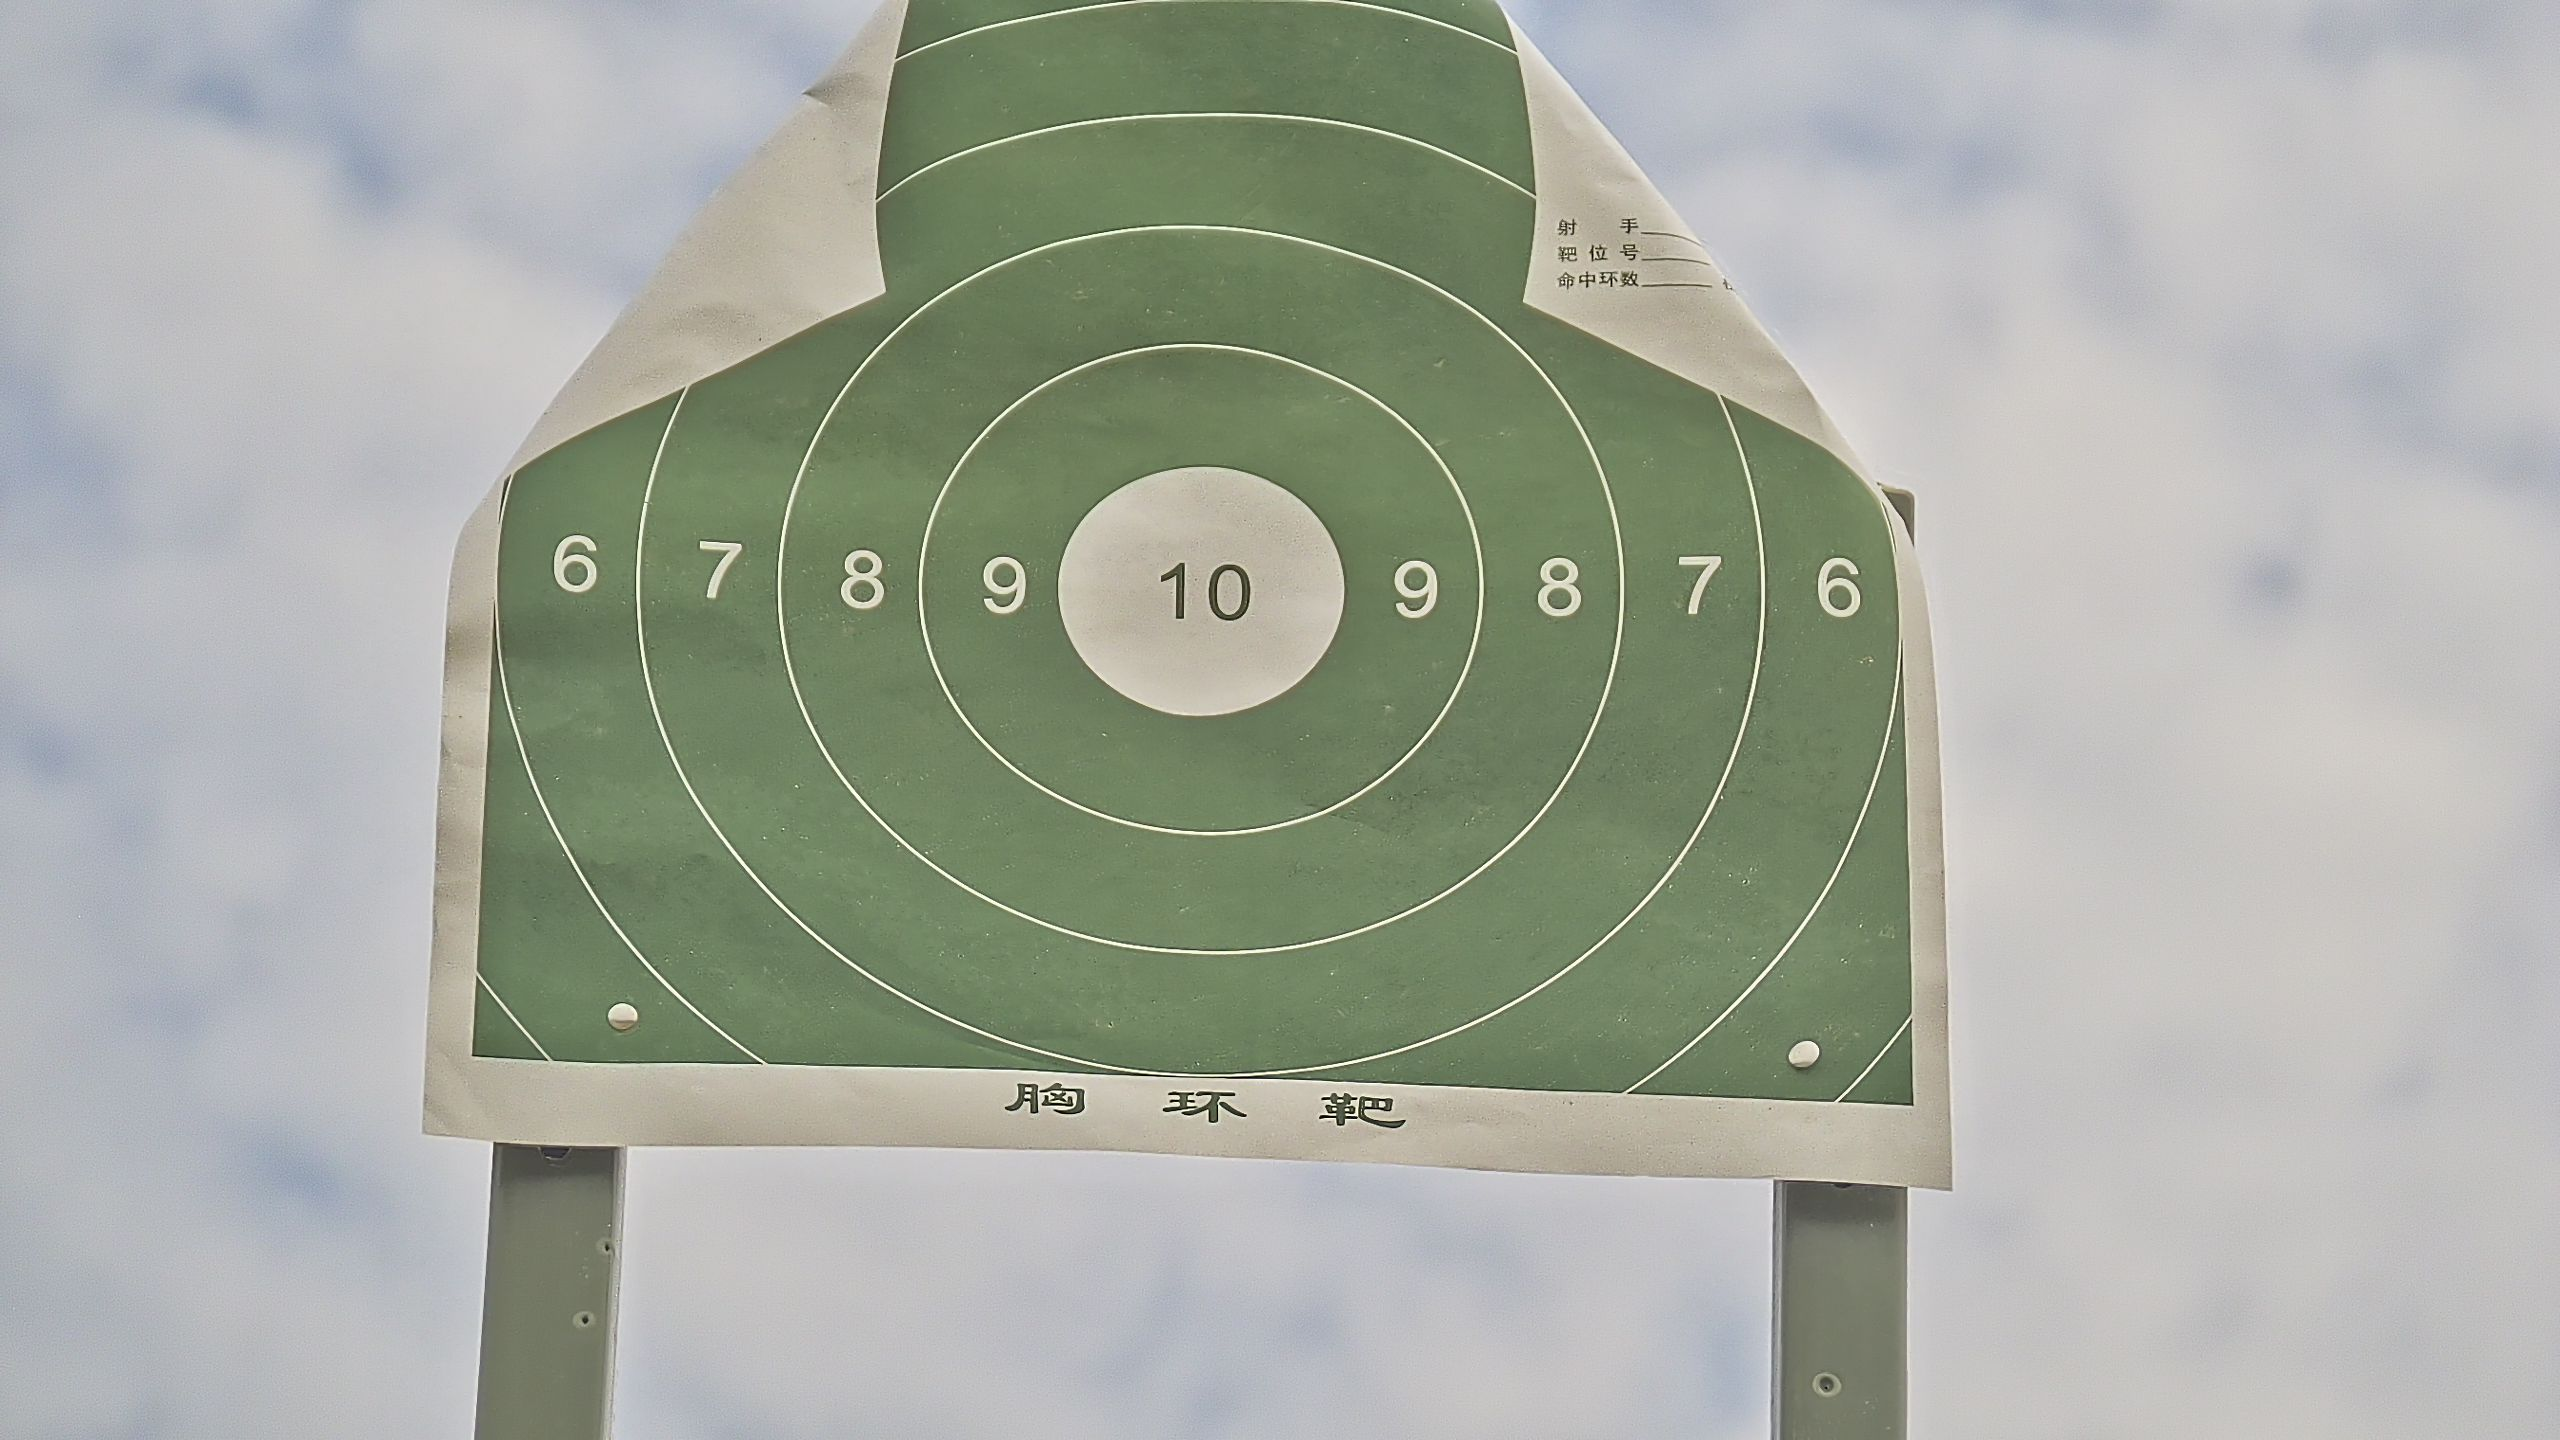kernel: (1196, 591, 1199, 593)
target: (471, 5, 1909, 1104)
ten: (1057, 461, 1347, 719)
